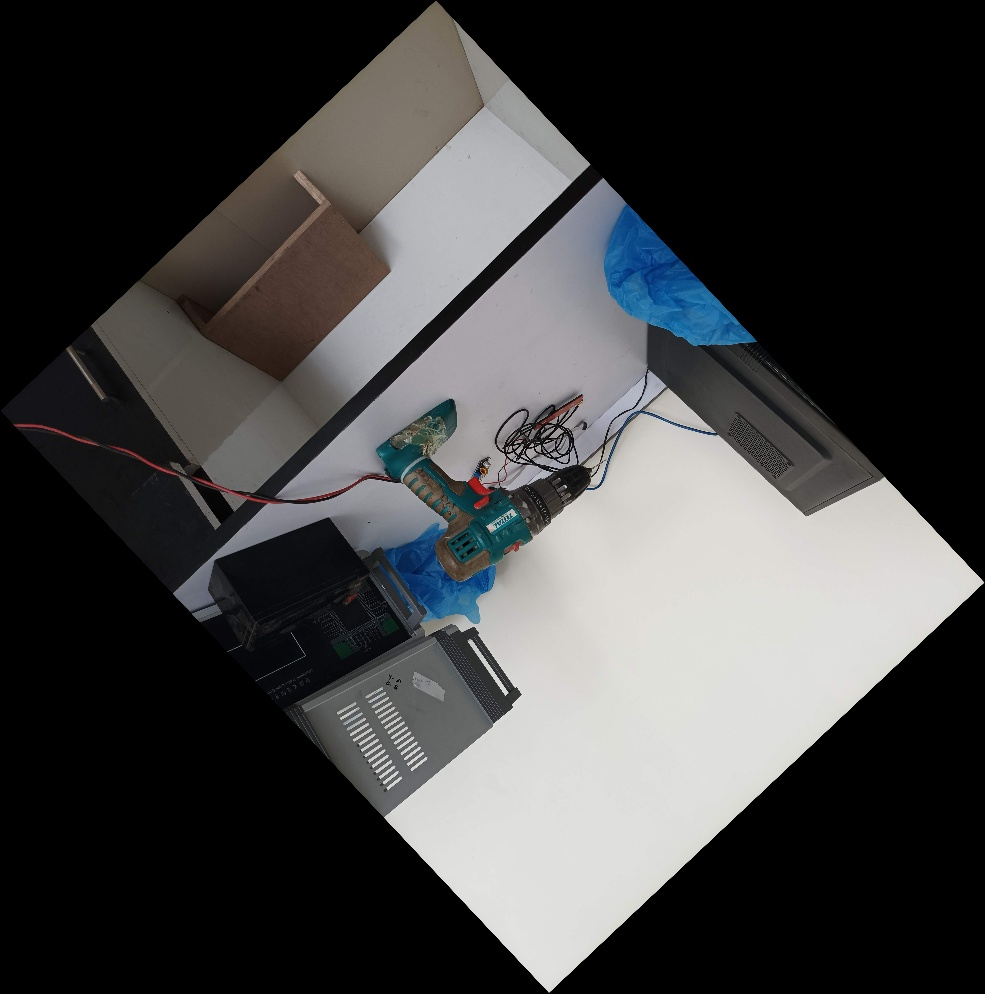driller: (367, 392, 608, 584)
